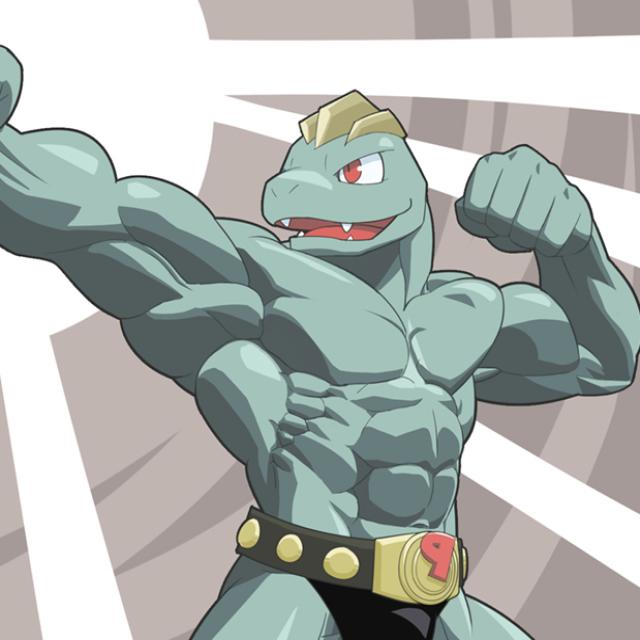Machoke: (142, 91, 581, 640)
